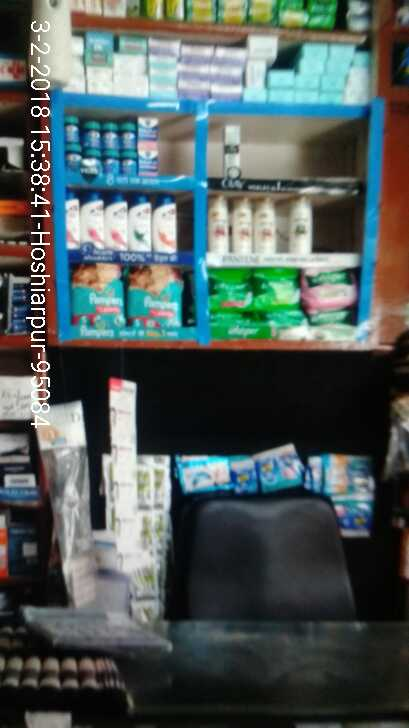vicks: (62, 111, 164, 182)
